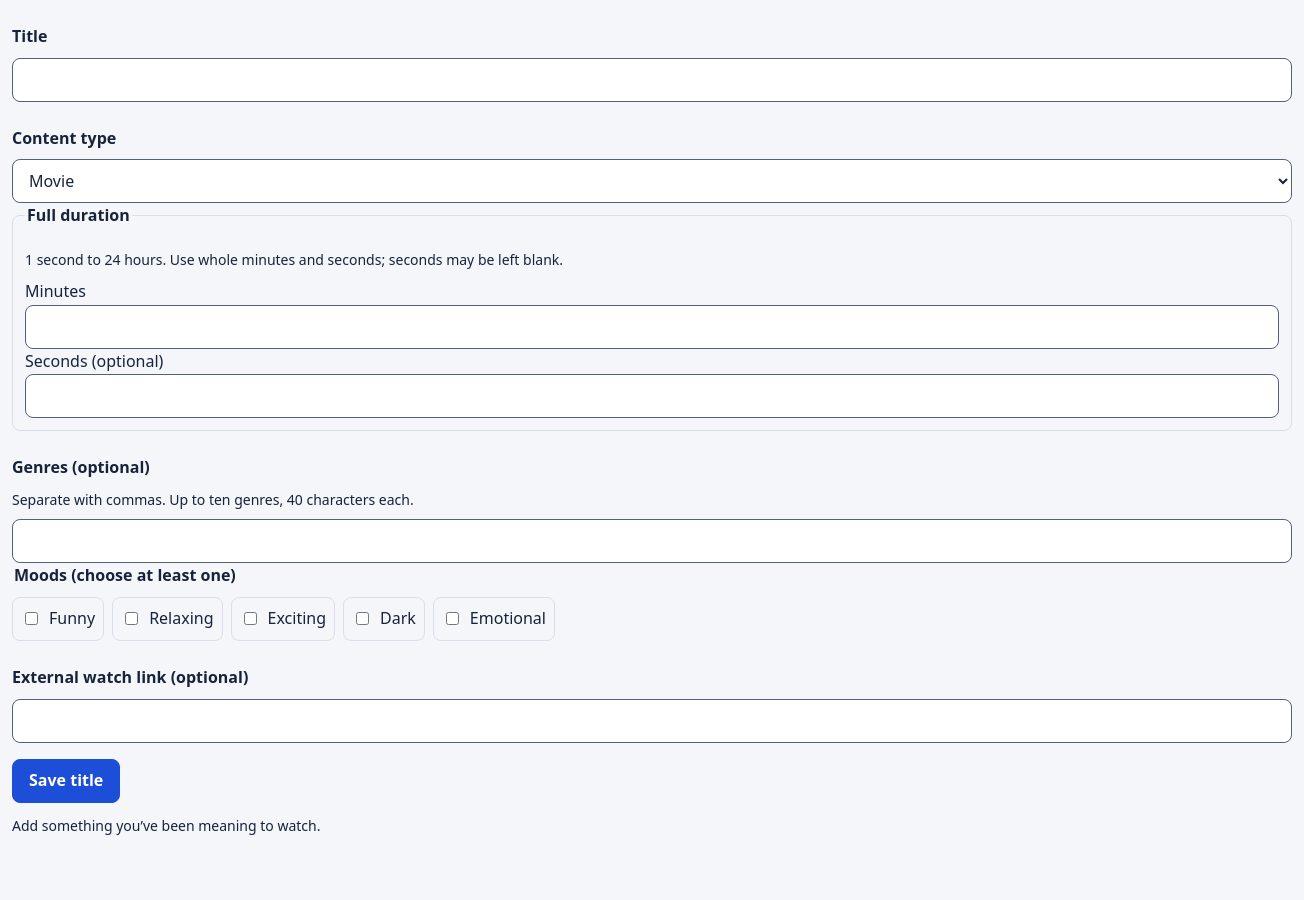
Test: shows safe conflicts with a real existing detail link
Click the button "Save title" at (66, 780), box [12, 758, 120, 802]
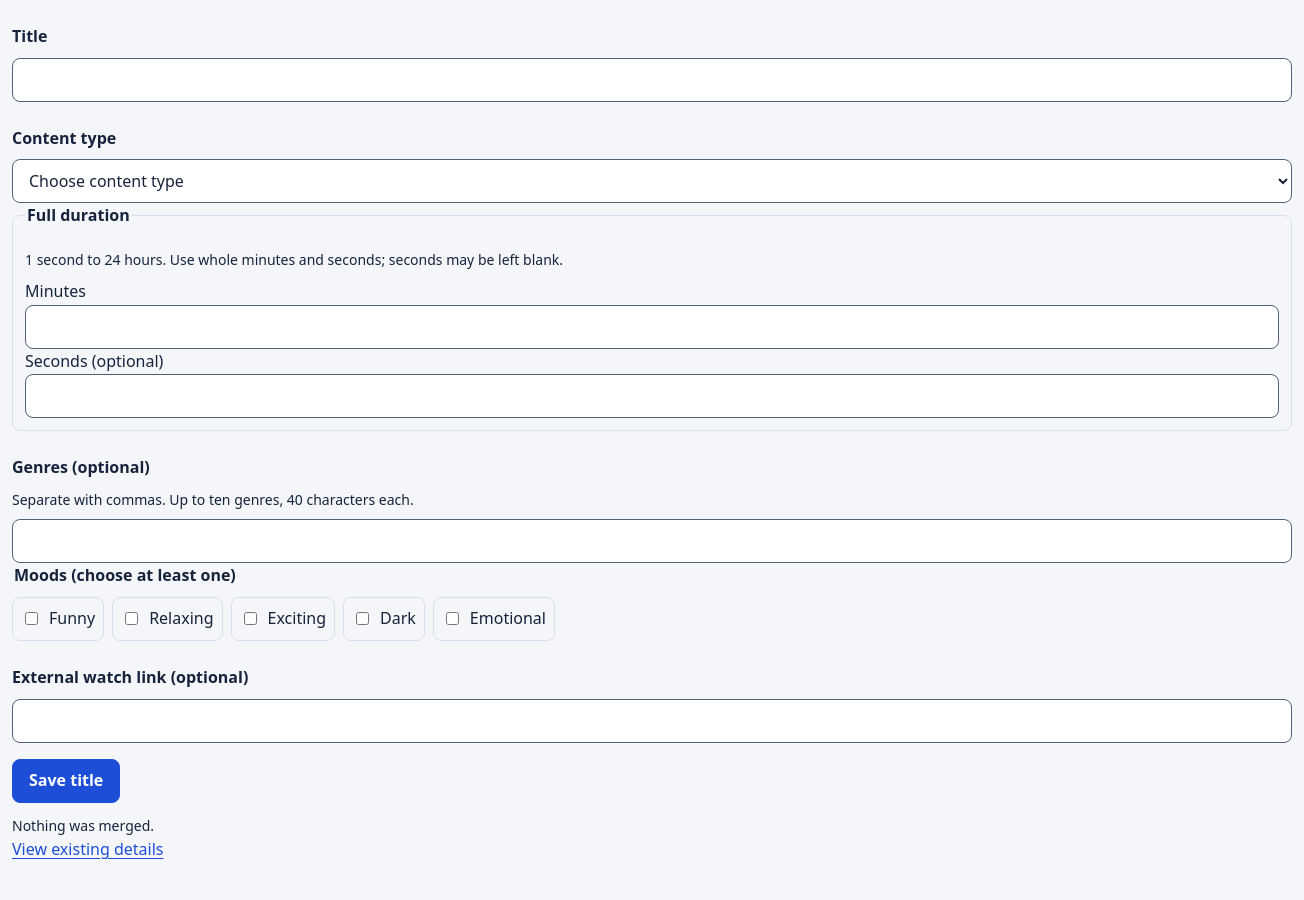
Result: the text "Nothing was merged." is shown at [12, 816, 154, 834]
